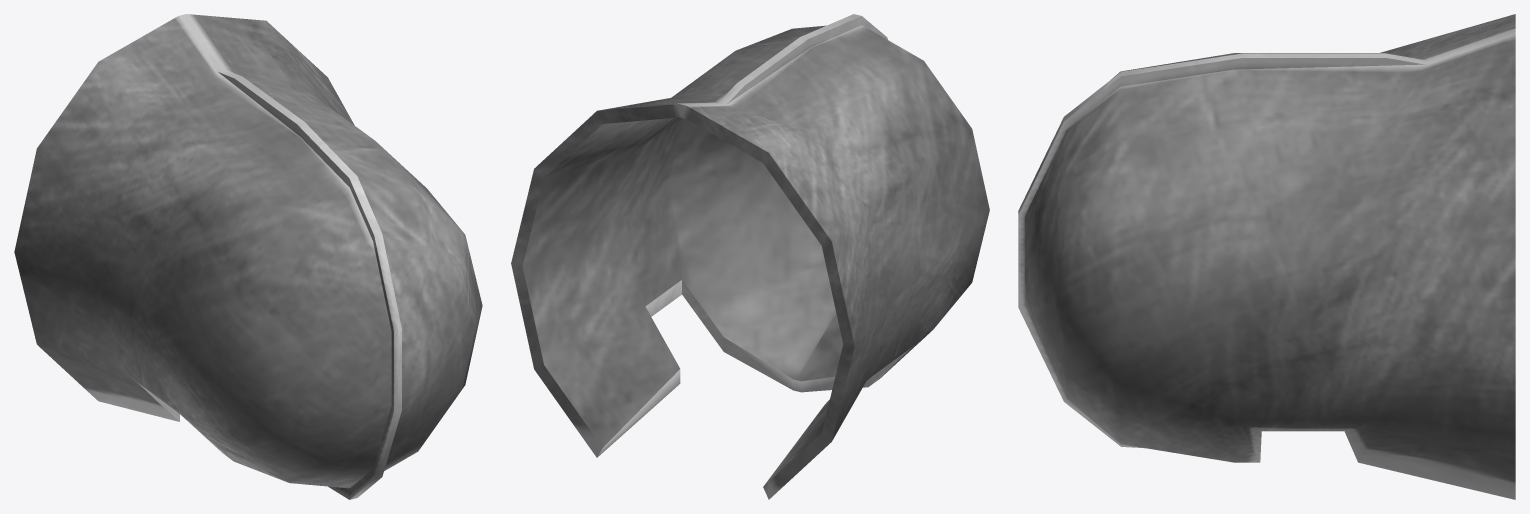
The model's file is HCHelmIron.fbx.
3 renders of one model, left to right at view 1: azimuth 30°, elevation 25°; view 2: azimuth 150°, elevation 25°; view 3: azimuth 270°, elevation 25°, orthographic. The views are drawn at different scales.
Parts seen in each view (by area): view 1: Helm; view 2: Helm; view 3: Helm.
Boxes of the visible parts, left/top/right/bottom form: Helm: left=14, top=14, right=482, bottom=499; Helm: left=511, top=14, right=989, bottom=499; Helm: left=1018, top=14, right=1515, bottom=499.
Size of the model in its own units: 0.1778 by 0.16 by 0.1665.
